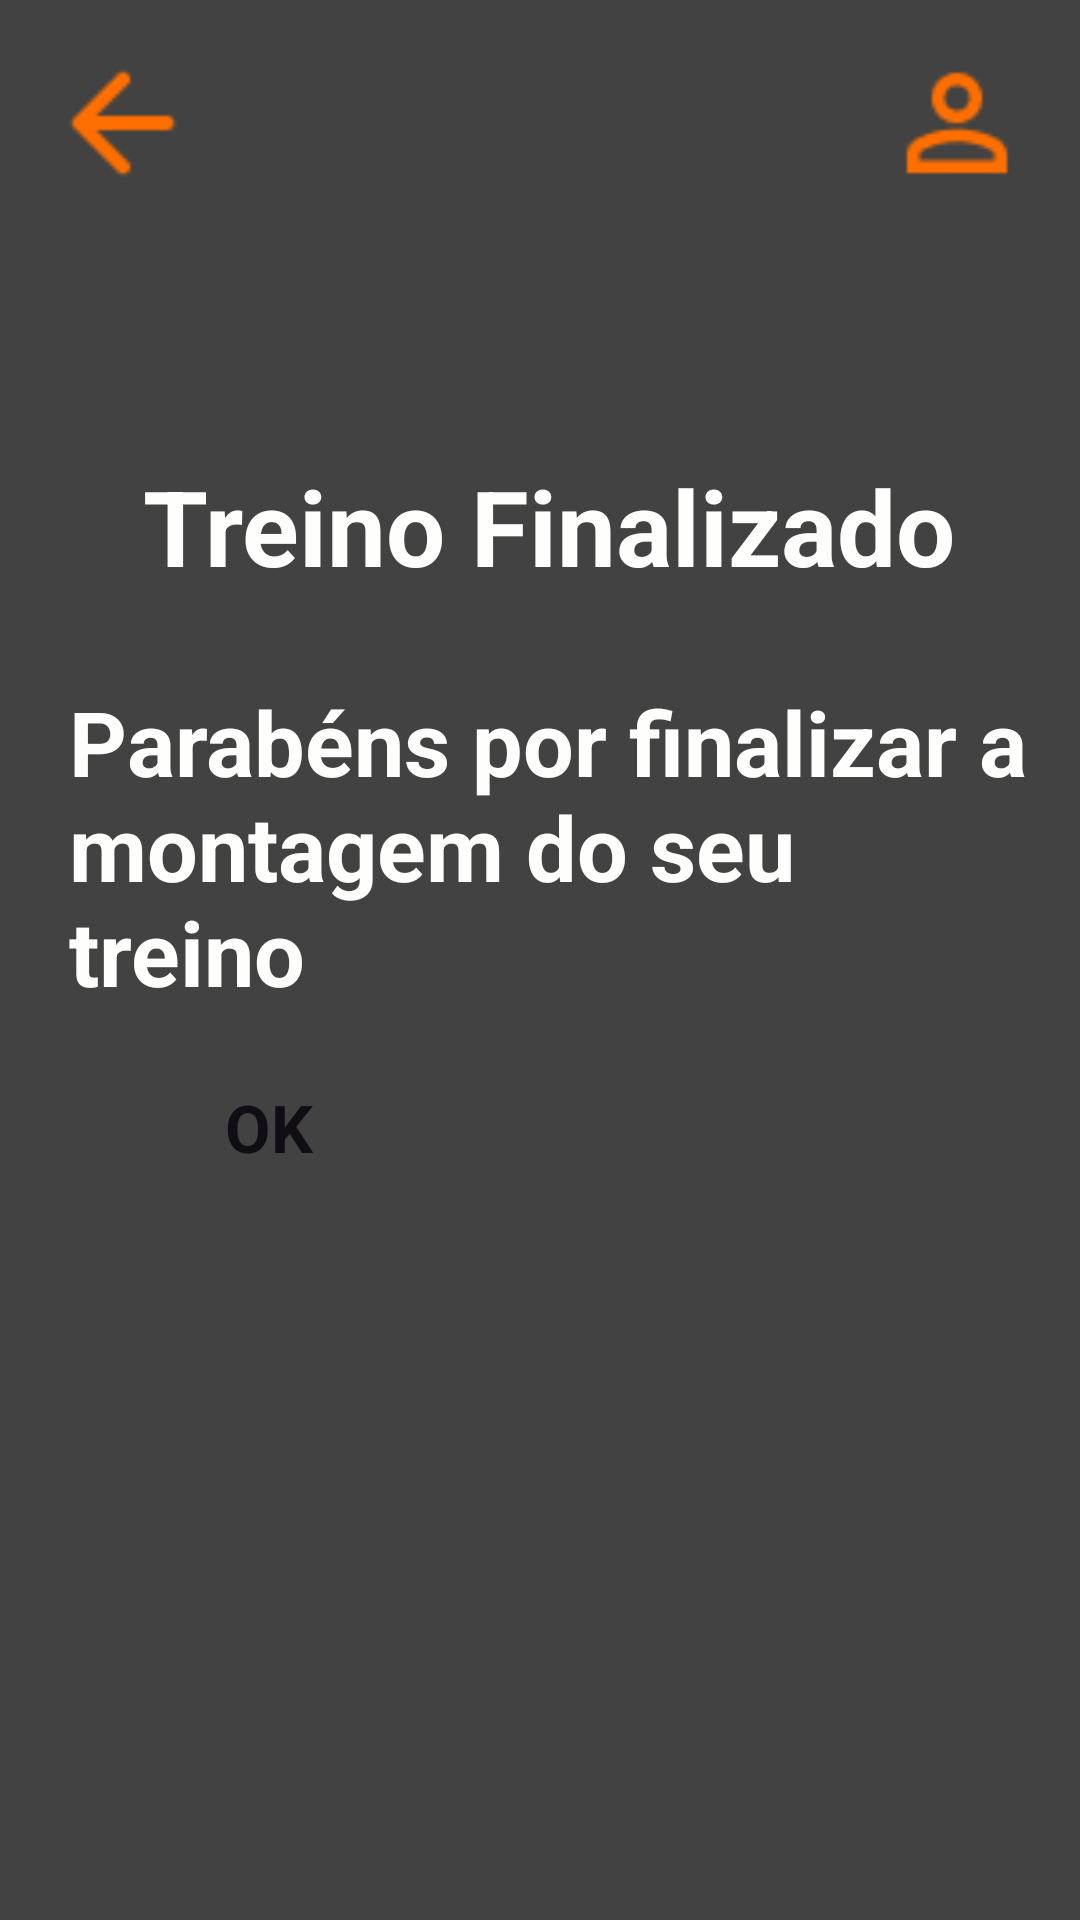

Locate icon controls on the screen. Image size 1080 × 1920, boxes as (x1,y1,x2,y2).
person: (906,72,1008,174)
Voltar para tela anterior: (70,70,176,176)
